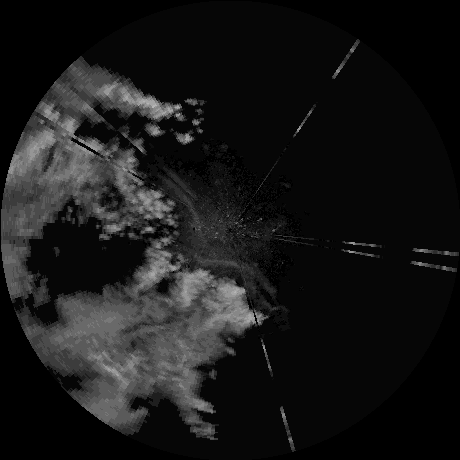frontgust: (185, 244, 277, 310), (159, 175, 206, 242)
